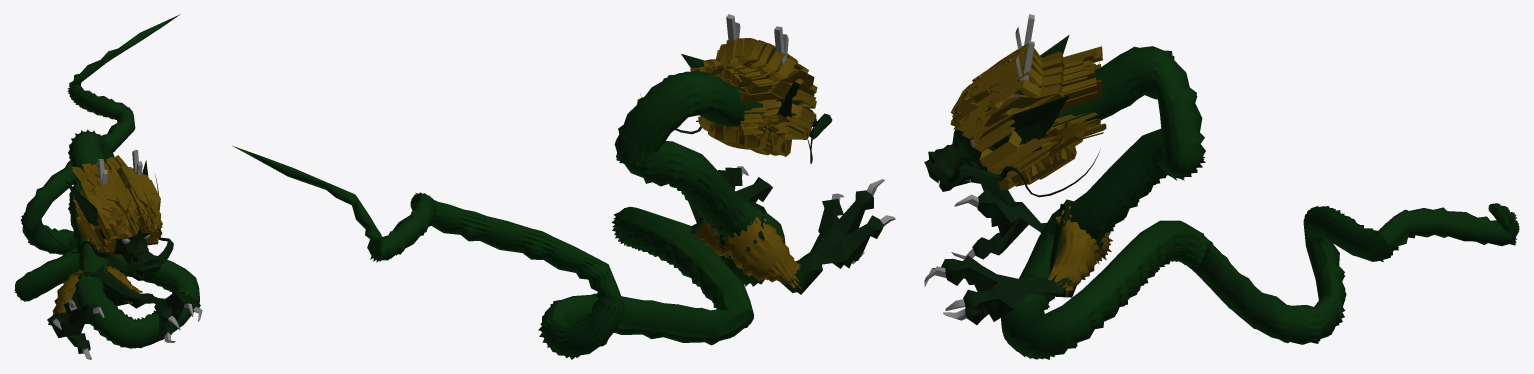
The model's file is ryuu_Idle.obj.
3 views of the same model, side by side, from view 1: azimuth 30°, elevation 25°; view 2: azimuth 150°, elevation 25°; view 3: azimuth 270°, elevation 25° (orthographic). The views are drawn at different scales.
Size of the model in its own units: 48.81 by 30.2 by 54.65.
